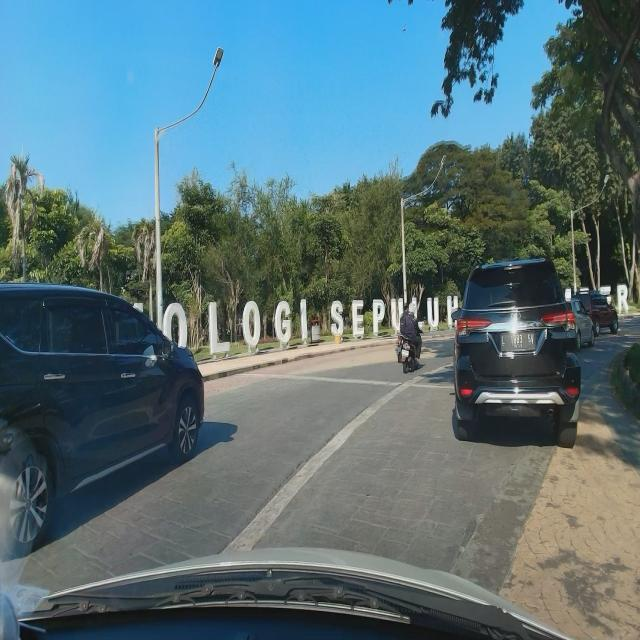car: (449, 251, 582, 450)
license-plate: (500, 331, 536, 350)
